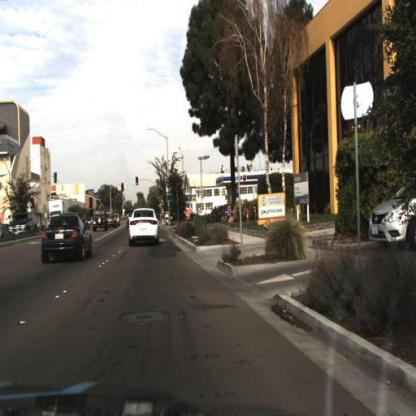car: (40, 207, 95, 266), (370, 176, 416, 246), (129, 207, 163, 247), (104, 208, 121, 236), (91, 207, 109, 232)
